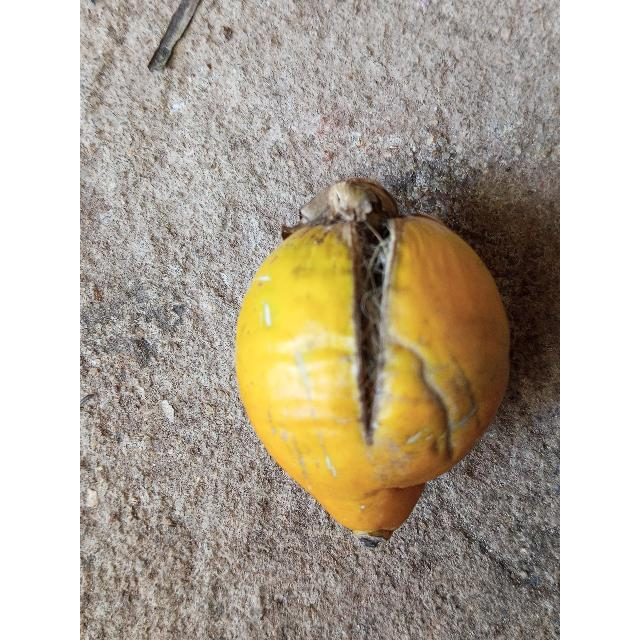damaged: (236, 178, 509, 544)
